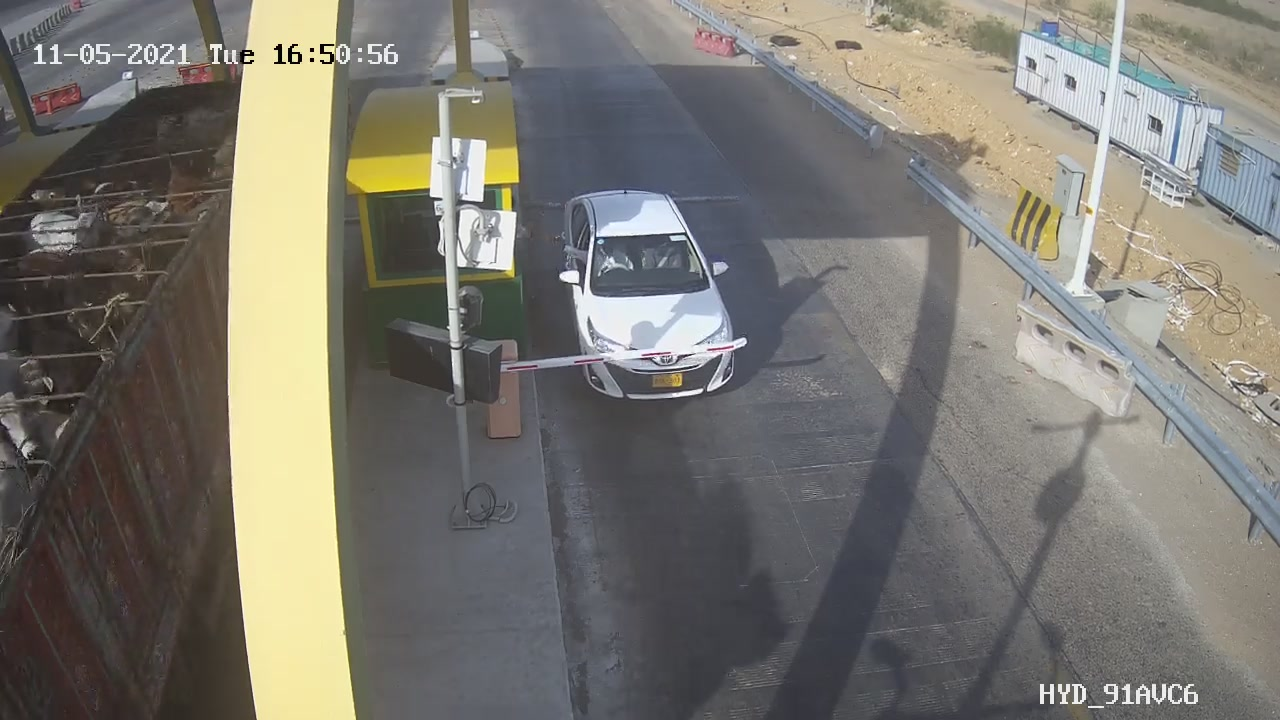F1: (543, 174, 763, 418)
